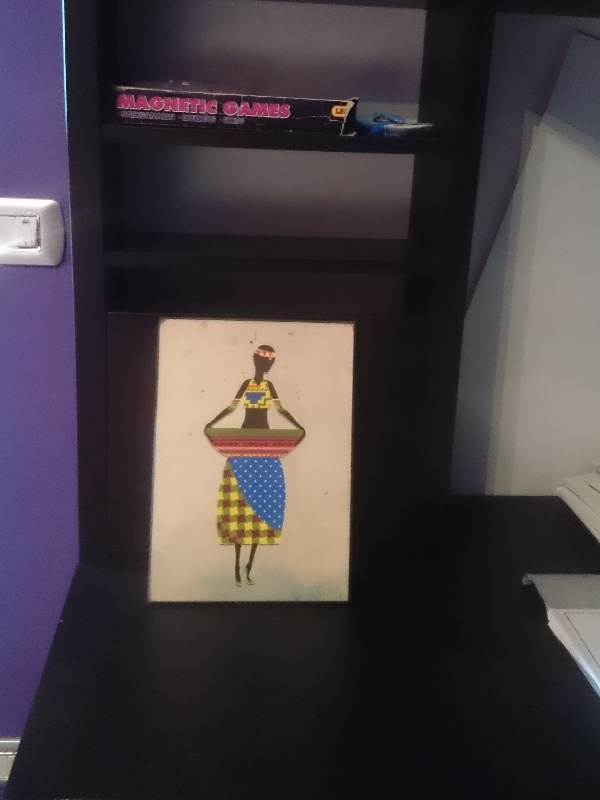my image: (148, 327, 353, 604)
